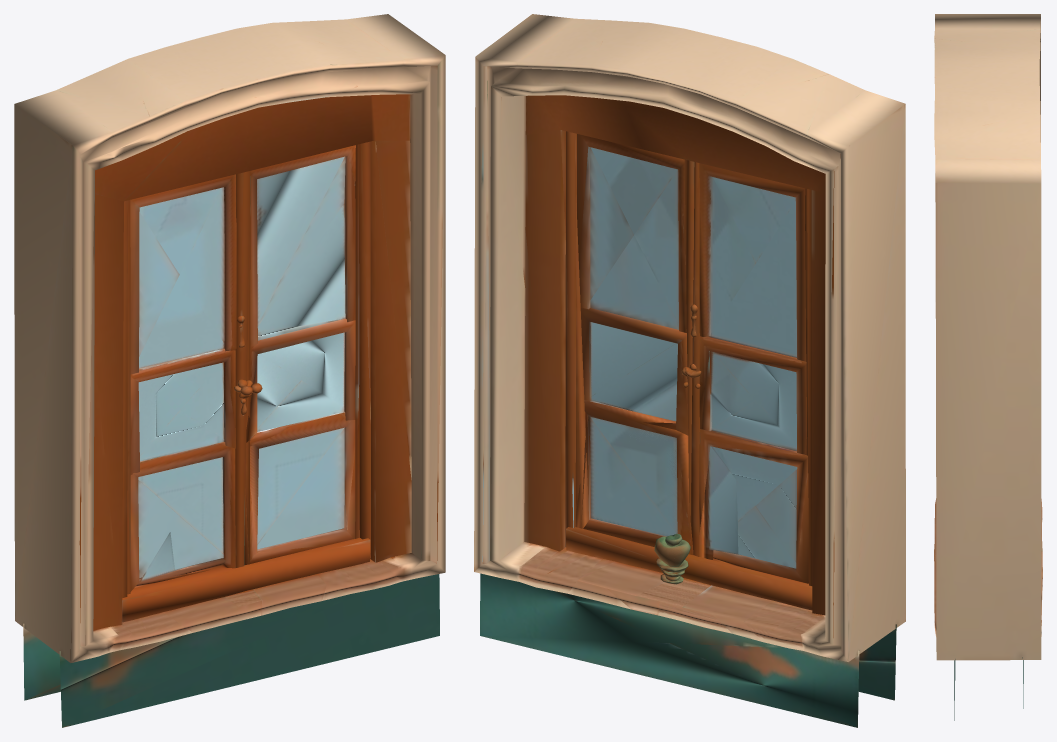
The model's file is env_cafe_wall_window.glb.
3 renders of one model, left to right at view 1: azimuth 30°, elevation 25°; view 2: azimuth 150°, elevation 25°; view 3: azimuth 270°, elevation 25°, orthographic. The views are drawn at different scales.
Size of the model in its own units: 0.6508 by 1 by 0.1752.
1 material, 1 textured.
